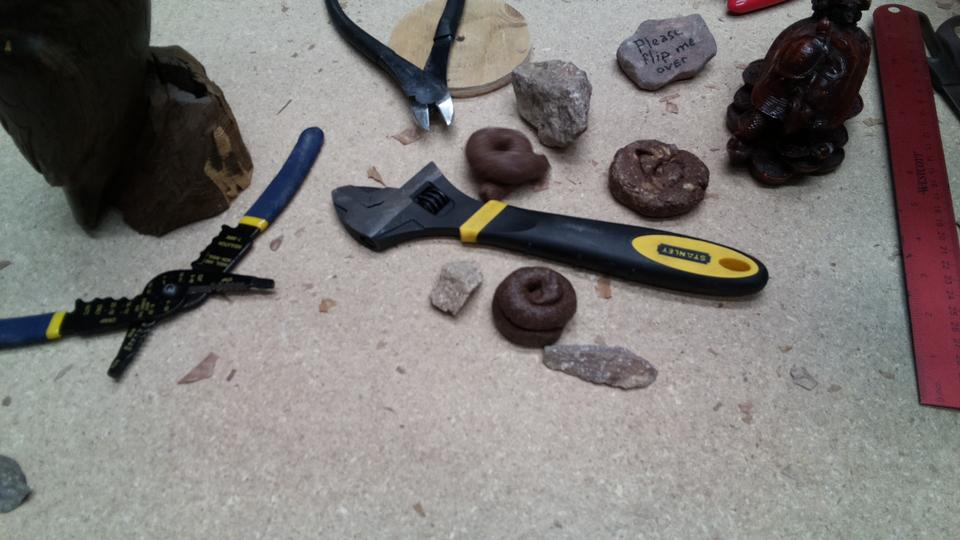poop: (608, 135, 711, 225), (490, 261, 579, 355), (463, 121, 551, 204)
